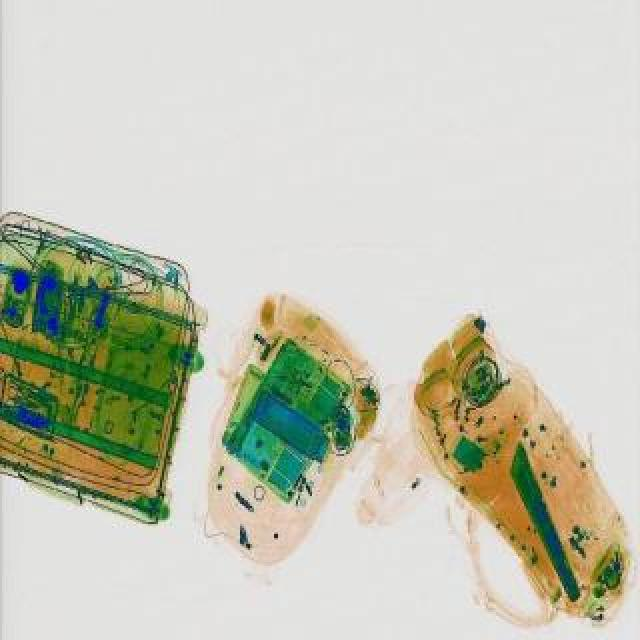pliers: (0, 382, 44, 414)
